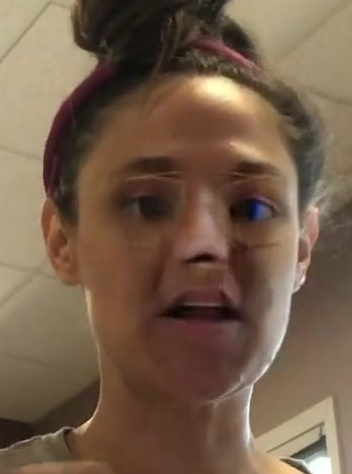n_f: (169, 177, 234, 270)
